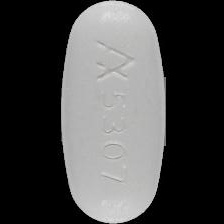68084-109: (0, 0, 224, 224)
